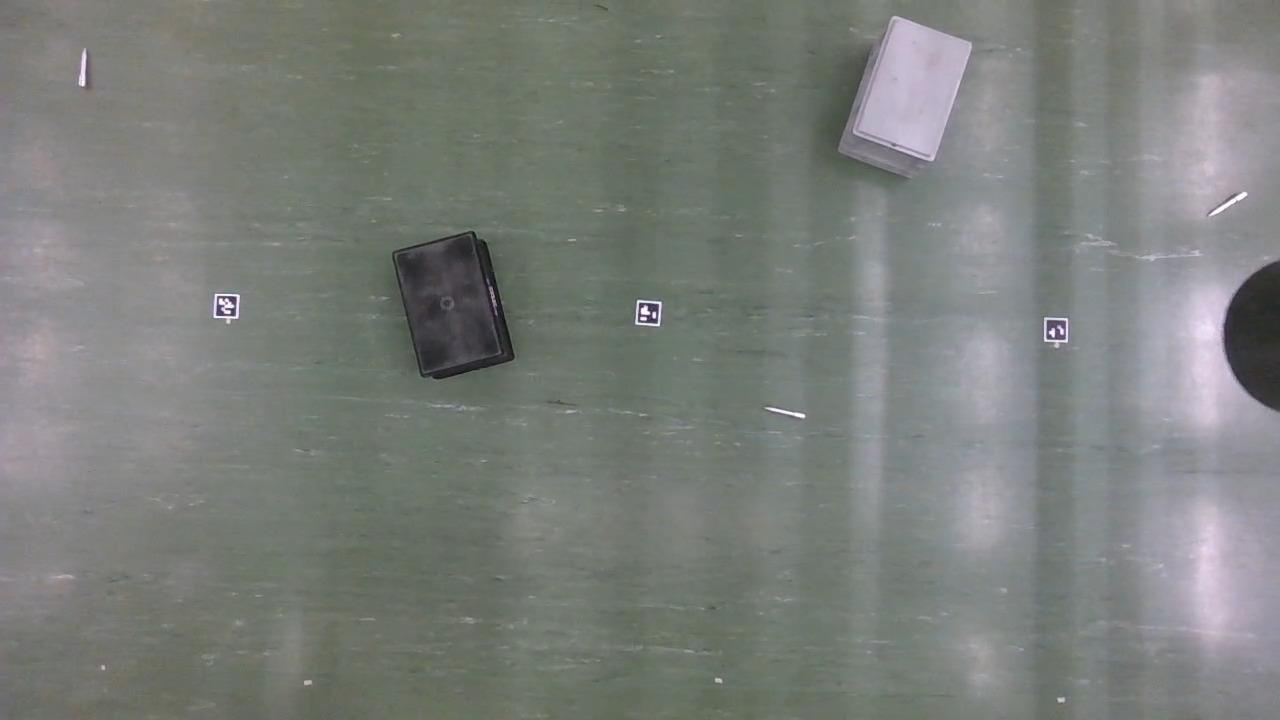probes: (1209, 193, 1246, 219), (767, 407, 804, 420), (80, 49, 88, 89)
rako: (836, 18, 972, 182), (393, 233, 515, 382)
